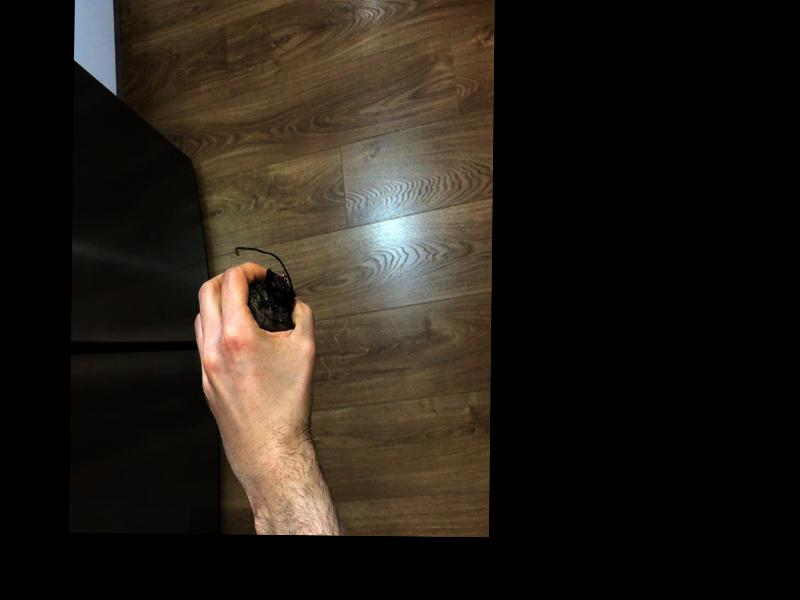Beet: (232, 244, 295, 331)
